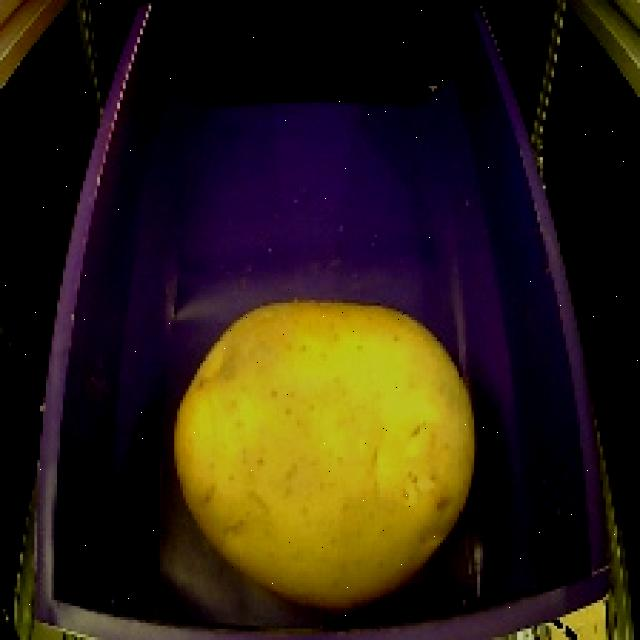full_potato: (166, 284, 490, 620)
